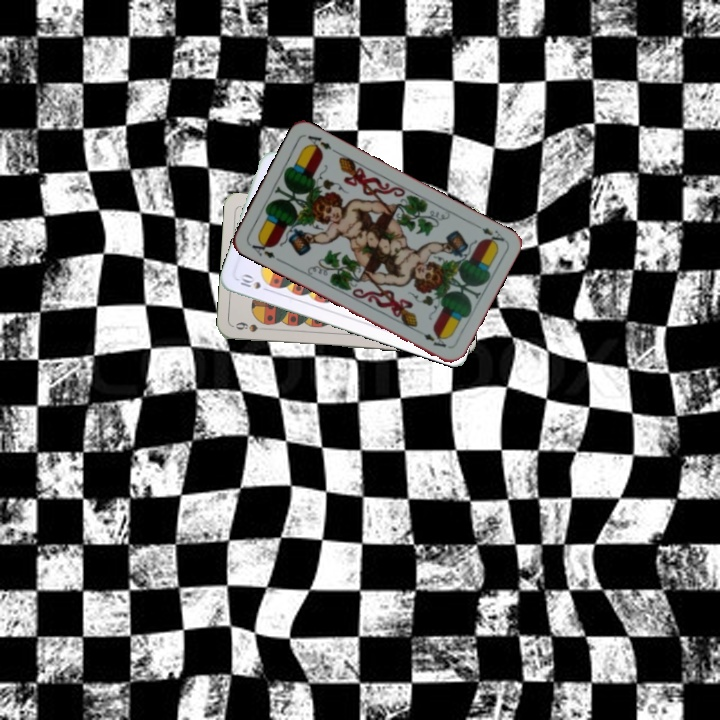EA: (470, 219, 507, 248), (245, 236, 278, 261)
S10: (236, 271, 273, 294)
S9: (232, 318, 271, 334)
